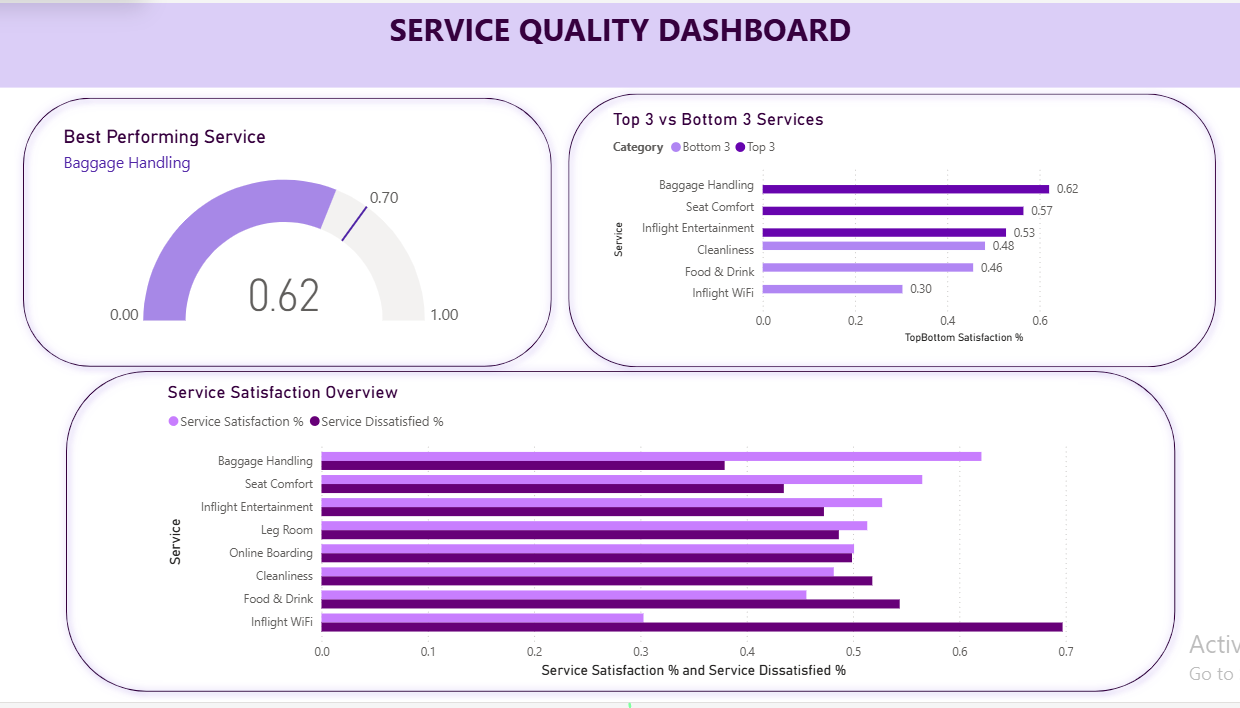

The page's visual inventory and layout, read from the dashboard file:
{"tool":"powerbi","page":{"name":"Page 3","canvas":[1280,720],"ordinal":2},"visuals":[{"type":"shape","box":[16.1,88.7,562.9,295.2],"z":0},{"type":"shape","box":[577.4,83.9,685.5,300],"z":1000},{"type":"shape","box":[59.7,371,1161.3,348.4],"z":2000},{"type":"clusteredBarChart","title":"Service Satisfaction Overview","fields":{"Category":["Services.Service"],"Y":["Services.Service Satisfaction %","Services.Service Dissatisfied %"]},"box":[169.4,390.3,943.5,309.7],"z":3000},{"type":"gauge","title":"Best Performing Service","fields":{"Y":["Factors.Baggage Satisfied %"]},"box":[61.3,125.8,464.5,211.3],"z":4000},{"type":"clusteredBarChart","title":"Top 3 vs Bottom 3 Services","fields":{"Category":["TopBottomServices.Service"],"Y":["TopBottomServices.TopBottom Satisfaction %"],"Series":["TopBottomServices.Category"]},"box":[627.4,108.1,587.1,246.8],"z":5000},{"type":"textbox","box":[0,0,1280.6,87.1],"z":6000}]}

Visuals, with their boxes in screenshot pixels (x1, y1, x2, y2), scaled from the page's 1280x720 canvas onto the 1240x708 screenshot:
shape: locate(16, 87, 561, 378)
shape: locate(559, 83, 1223, 378)
shape: locate(58, 365, 1183, 707)
"Service Satisfaction Overview" clusteredBarChart: locate(164, 384, 1078, 688)
"Best Performing Service" gauge: locate(59, 124, 509, 331)
"Top 3 vs Bottom 3 Services" clusteredBarChart: locate(608, 106, 1177, 349)
textbox: locate(0, 0, 1239, 86)
